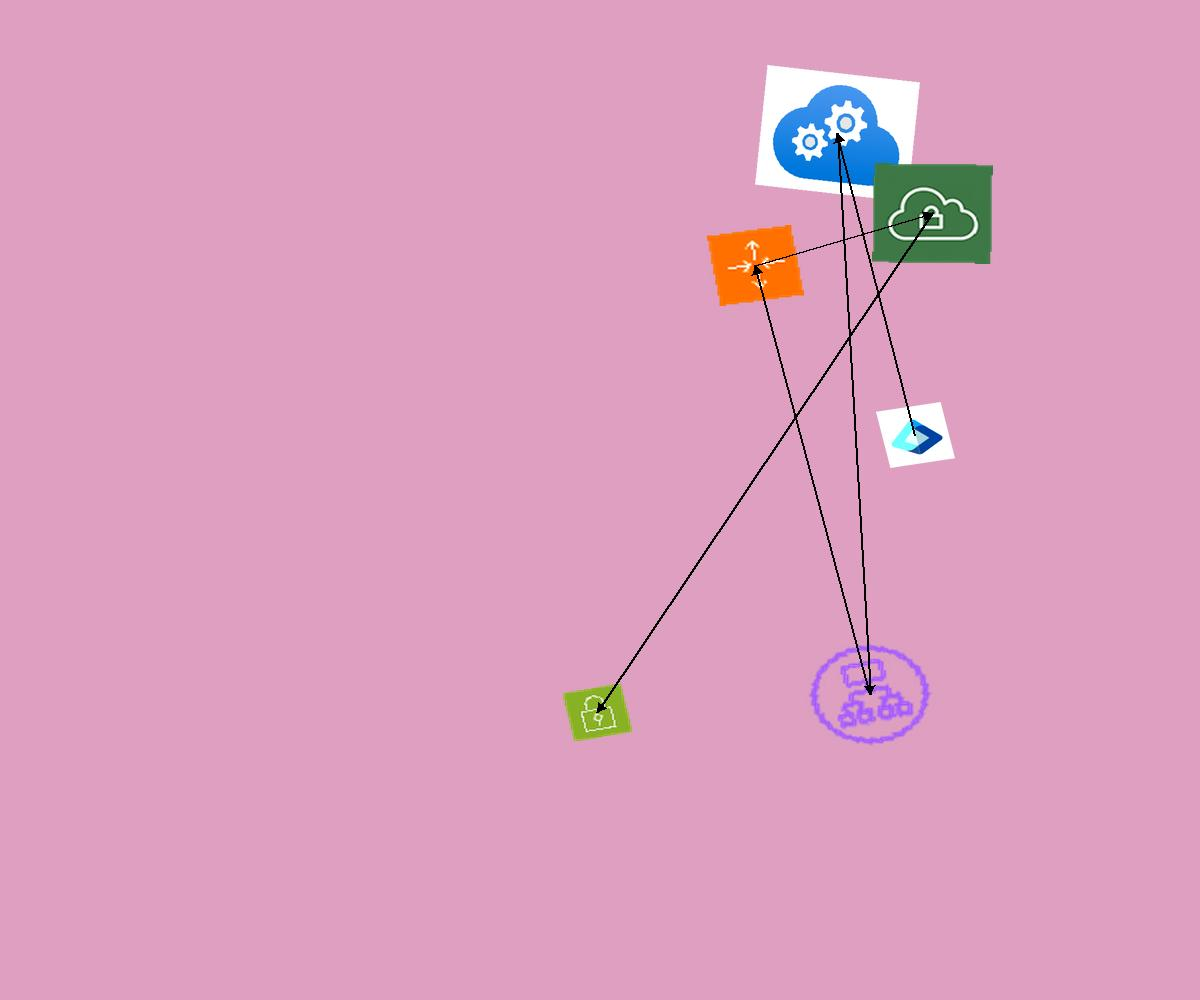AWS-Private_vpc: (872, 163, 993, 264)
AWS-Public-subnet: (562, 683, 633, 742)
AWS-Res_Elastic-Load-Balancing_Application-Load-Balancer: (790, 628, 950, 761)
AWS-Scaling-group: (707, 225, 804, 306)
Azure_cloud_services: (755, 65, 920, 202)
Azure_microsoft_entra: (876, 402, 955, 468)
